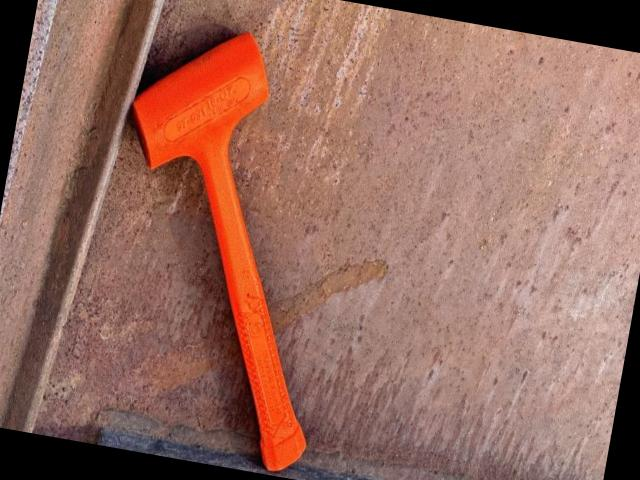hammer: (74, 12, 377, 477)
